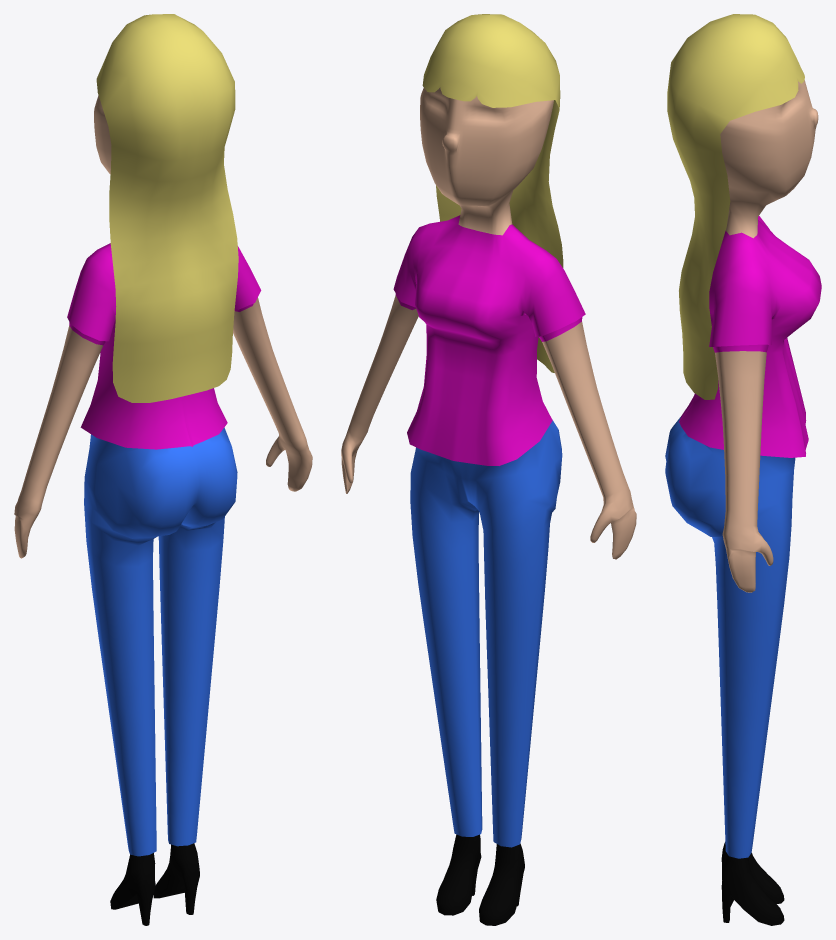
The model's file is TP JERO MAIA con las caritas.fbx.
3 views of the same model, side by side, from view 1: azimuth 30°, elevation 25°; view 2: azimuth 150°, elevation 25°; view 3: azimuth 270°, elevation 25° (orthographic).
Parts seen in each view (by area): view 1: FemaleCharacter, Pelo; view 2: FemaleCharacter, Pelo; view 3: FemaleCharacter, Pelo.
Boxes of the visible parts, box(x1,y1,x2,y2) form: FemaleCharacter: box(14, 95, 312, 925); Pelo: box(96, 14, 238, 402); FemaleCharacter: box(341, 87, 636, 925); Pelo: box(422, 14, 563, 372); FemaleCharacter: box(665, 80, 821, 925); Pelo: box(667, 14, 804, 399).
Size of the model in its own units: 47.53 by 139 by 22.19.
